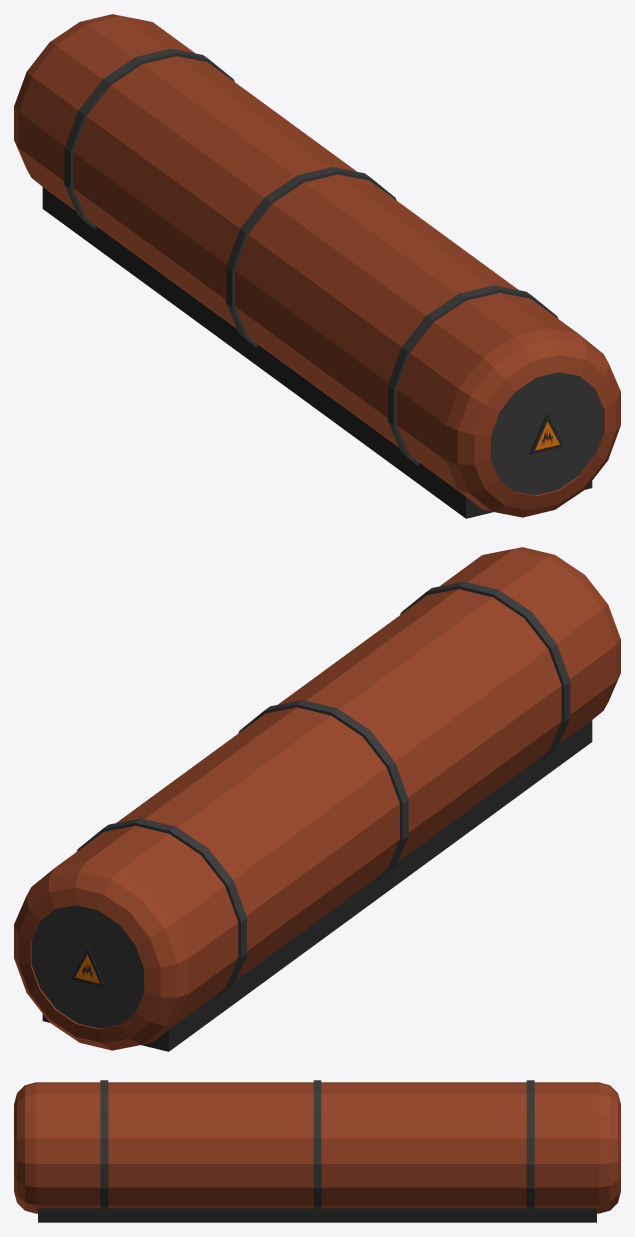
Rendered from TrainPart_04.fbx.
3 views of the same model, one above another, from view 1: azimuth 30°, elevation 25°; view 2: azimuth 150°, elevation 25°; view 3: azimuth 270°, elevation 25° (orthographic). The views are drawn at different scales.
Parts seen in each view (by area): view 1: TrainPart_04; view 2: TrainPart_04; view 3: TrainPart_04.
Part boxes in pixels (bbox=[...]): TrainPart_04: bbox=[14, 14, 620, 518]; TrainPart_04: bbox=[14, 547, 620, 1051]; TrainPart_04: bbox=[14, 1080, 620, 1222].
Bounding box in the file's own units: 362 × 362 × 1631.
